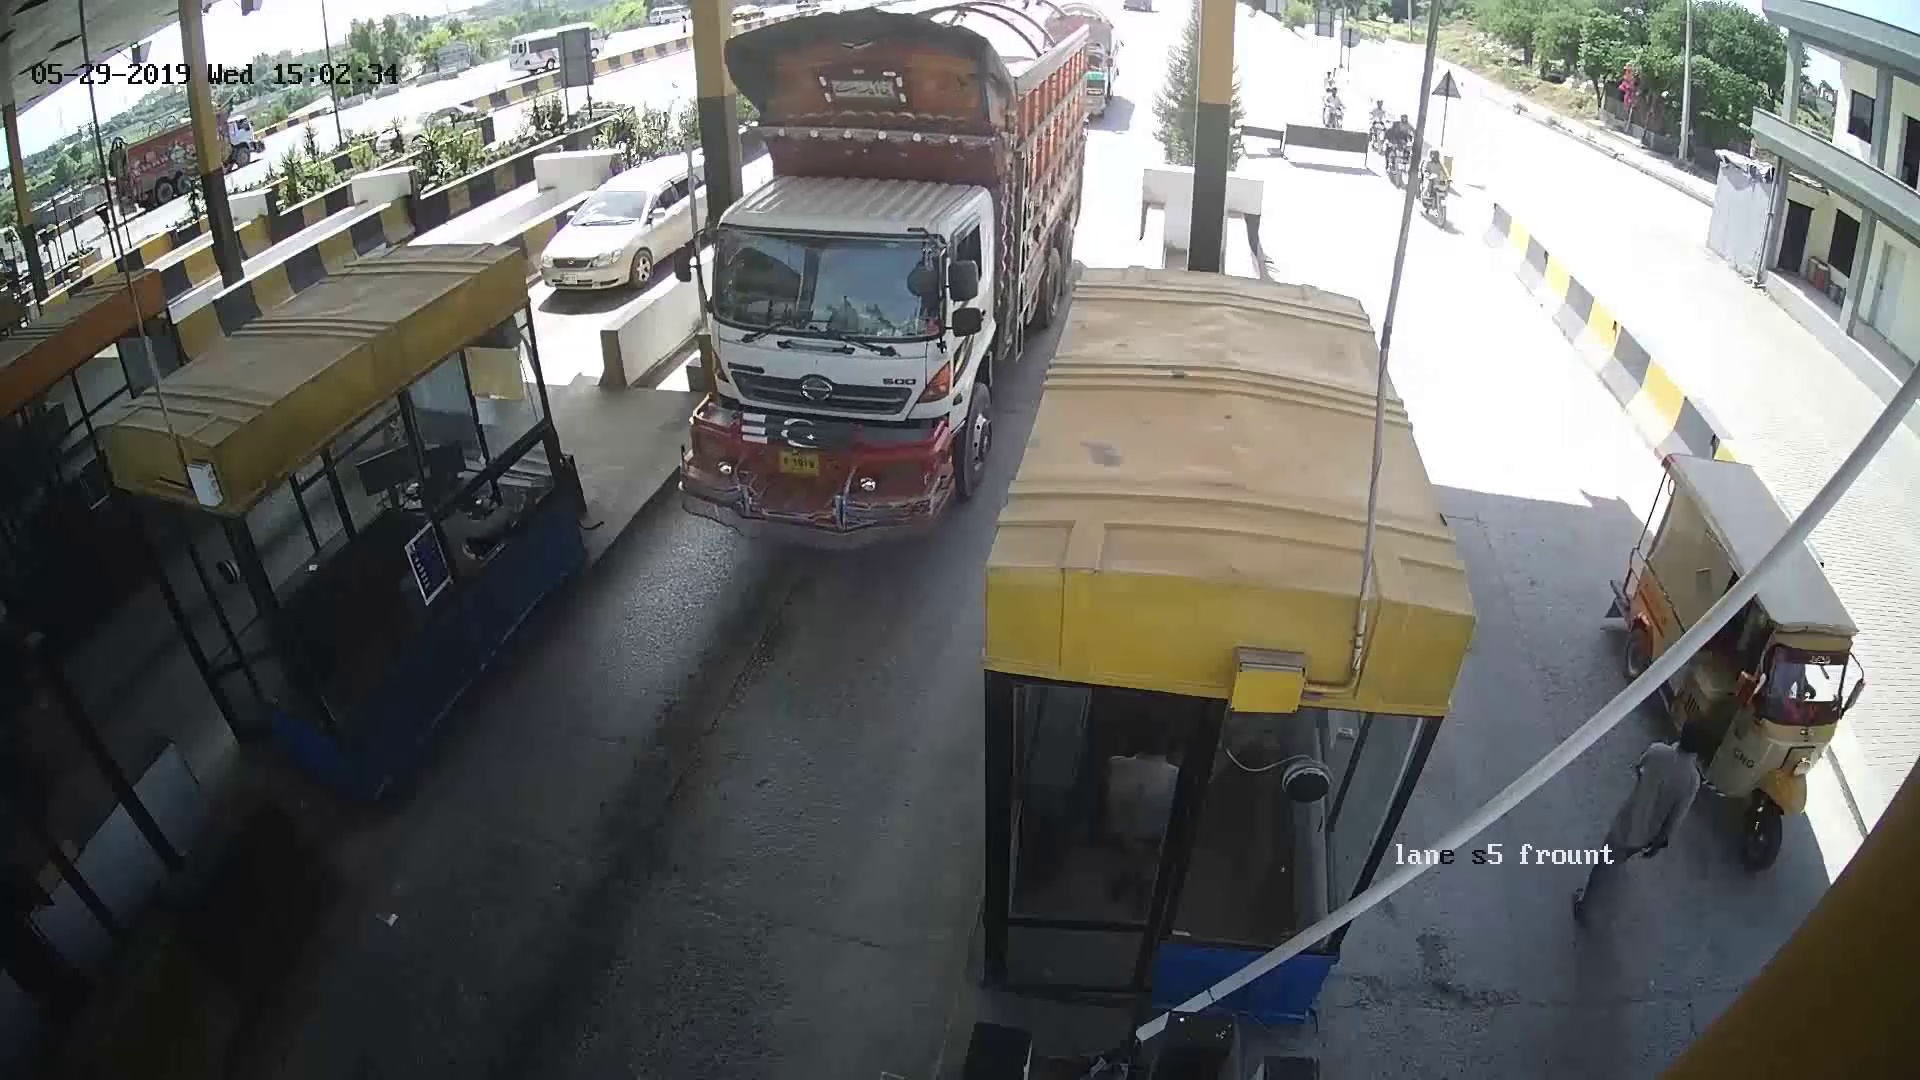truck: (703, 54, 1064, 491)
